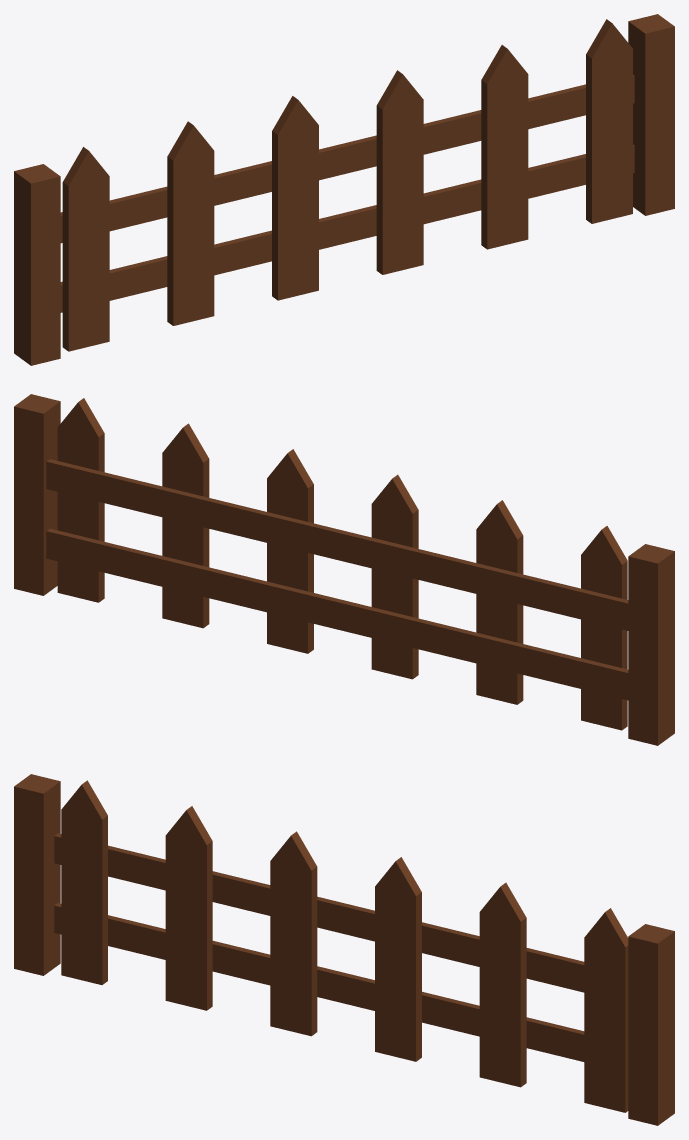
Rendered from Fence Tile_11.fbx.
3 views of the same model, one above another, from view 1: azimuth 30°, elevation 25°; view 2: azimuth 150°, elevation 25°; view 3: azimuth 330°, elevation 25° (orthographic).
Visible parts, largest first — view 1: Fence Tile_11; view 2: Fence Tile_11; view 3: Fence Tile_11.
Part boxes in pixels (box(x1,y1,x2,y2)): Fence Tile_11: box(14, 14, 674, 365); Fence Tile_11: box(14, 394, 674, 745); Fence Tile_11: box(14, 774, 674, 1125).
Bounding box in the file's own units: 421 × 123 × 19.36.
